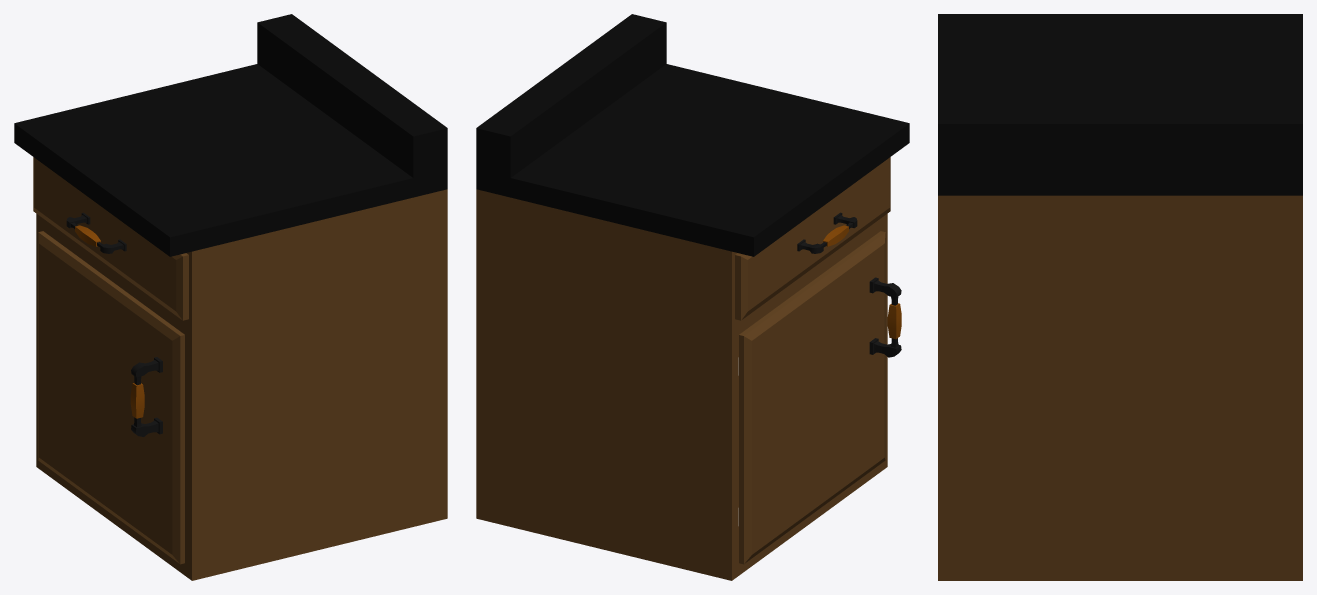
Rendered from Interactive Kitchen Cabinet.FBX.
3 renders of one model, left to right at view 1: azimuth 30°, elevation 25°; view 2: azimuth 150°, elevation 25°; view 3: azimuth 270°, elevation 25°, orthographic. The views are drawn at different scales.
Visible parts, largest first — view 1: Kitchen Counter Base, Cabinet Door, Drawer; view 2: Kitchen Counter Base, Cabinet Door, Drawer; view 3: Kitchen Counter Base.
Part boxes in pixels (x1=…): Kitchen Counter Base: x1=14, y1=14, x2=447, y2=580; Cabinet Door: x1=38, y1=231, x2=184, y2=564; Drawer: x1=33, y1=157, x2=188, y2=320; Kitchen Counter Base: x1=476, y1=14, x2=909, y2=580; Cabinet Door: x1=739, y1=231, x2=901, y2=564; Drawer: x1=735, y1=157, x2=890, y2=320; Kitchen Counter Base: x1=938, y1=14, x2=1302, y2=580.
Bounding box in the file's own units: 34.92 × 44.81 × 32.43.
